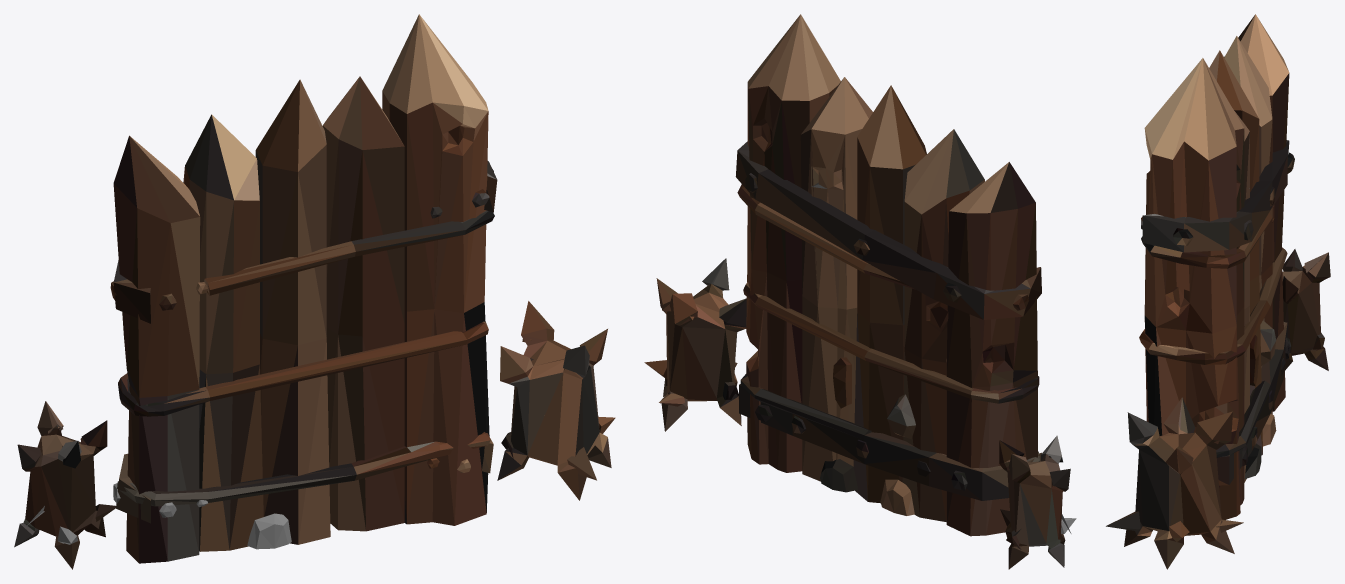
Rendered from Palisade.glb.
3 views of the same model, side by side, from view 1: azimuth 30°, elevation 25°; view 2: azimuth 150°, elevation 25°; view 3: azimuth 270°, elevation 25° (orthographic). The views are drawn at different scales.
Parts seen in each view (by area): view 1: world; view 2: world; view 3: world.
Part boxes in pixels (<box>): world: <box>14,14,615,569</box>; world: <box>644,14,1076,569</box>; world: <box>1106,14,1330,569</box>.
Bounding box in the file's own units: 0.582 × 0.5176 × 0.2344.
